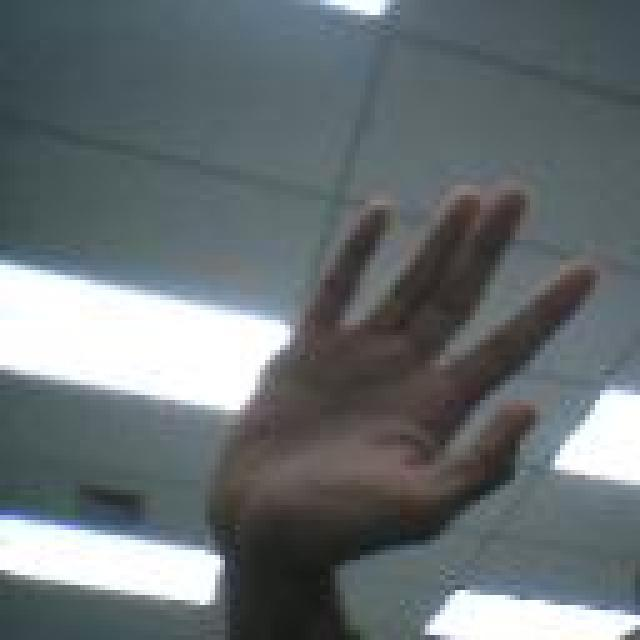no-gloves: (202, 175, 602, 570)
